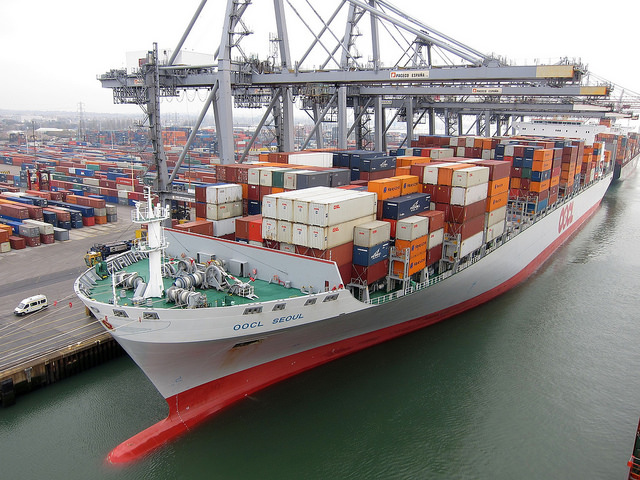container_ship: (74, 115, 615, 467)
